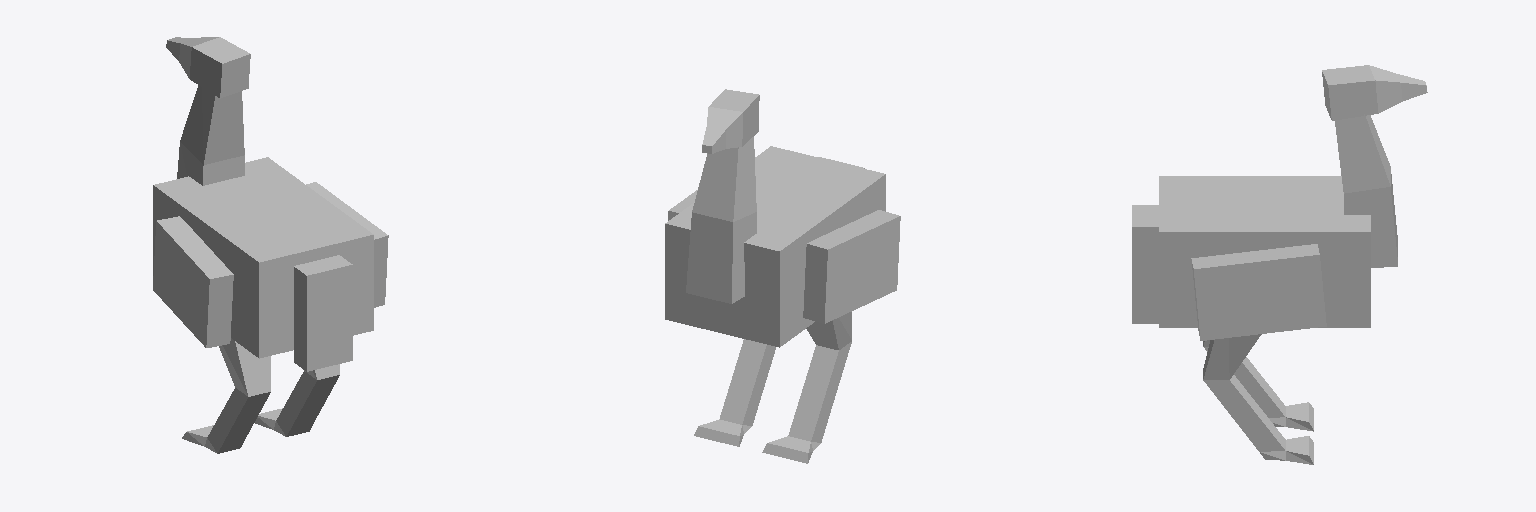
The model's file is Ostrich_000015.obj.
3 renders of one model, left to right at view 1: azimuth 30°, elevation 25°; view 2: azimuth 150°, elevation 25°; view 3: azimuth 270°, elevation 25°, orthographic.
Visible parts, largest first — view 1: Cube_Cube.001; view 2: Cube_Cube.001; view 3: Cube_Cube.001.
Boxes of the visible parts, box(x1,y1,x2,y2) form: Cube_Cube.001: box(153, 37, 388, 453); Cube_Cube.001: box(665, 89, 900, 463); Cube_Cube.001: box(1132, 65, 1427, 464).
Size of the model in its own units: 0.7796 by 1.51 by 1.11.